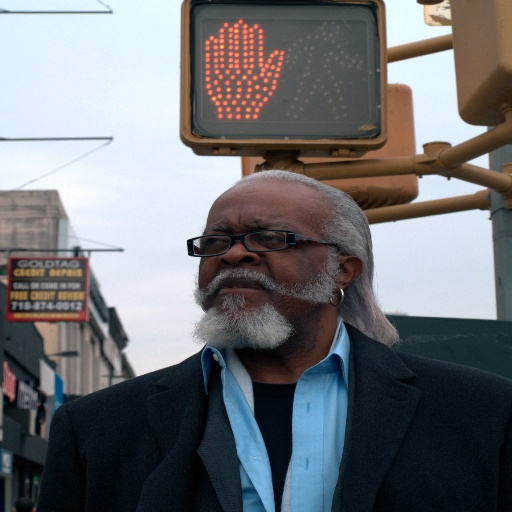hand: (206, 17, 285, 119)
